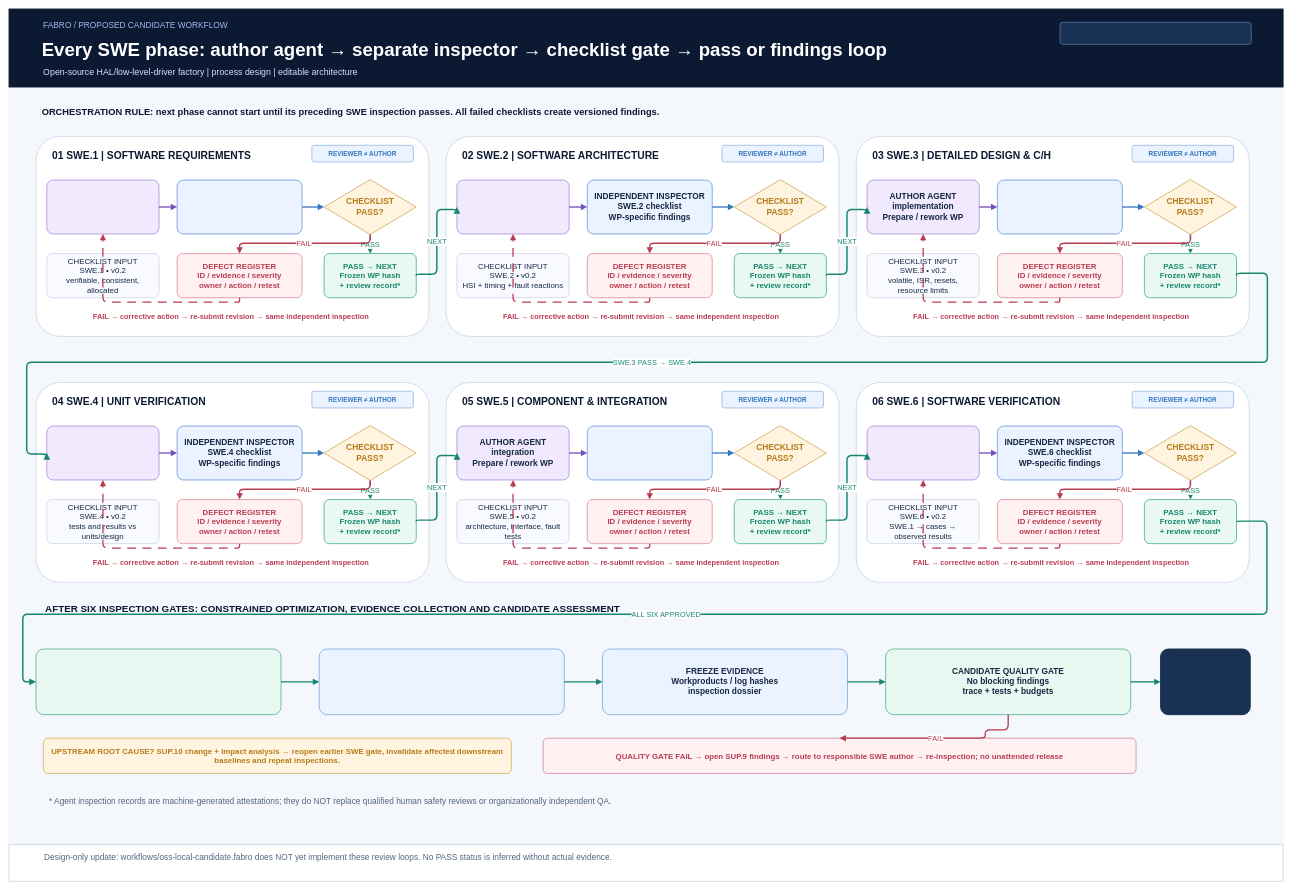
Some shapes in this 1292 by 890 pixel diagram are drawn without their labels. Each missing label, with the centre of its shape:
"AUTHOR AGENT architecture Prepare / rework WP" belongs at point (512, 206).
"AUTHOR AGENT requirements Prepare / rework WP" belongs at point (102, 206).
"AUTHOR AGENT software_verification Prepare / rework WP" belongs at point (923, 452).
"AUTHOR AGENT unit_verification Prepare / rework WP" belongs at point (102, 452).
"C DRIVER CANDIDATE Not ASIL B release" belongs at point (1205, 681).
"INDEPENDENT INSPECTOR SWE.1 checklist WP-specific findings" belongs at point (239, 206).
"INDEPENDENT INSPECTOR SWE.3 checklist WP-specific findings" belongs at point (1060, 206).
"INDEPENDENT INSPECTOR SWE.5 checklist WP-specific findings" belongs at point (649, 452).
"OPTIMIZE SIZE / STACK Constrained -Os/-O2/-Oz Never regress safety" belongs at point (158, 681).
"PROCESS DESIGN · NOT EXECUTED" belongs at point (1155, 33).
"RERUN DETERMINISTIC TOOLS Clang / Cppcheck / tests coverage / footprint" belongs at point (441, 681).
